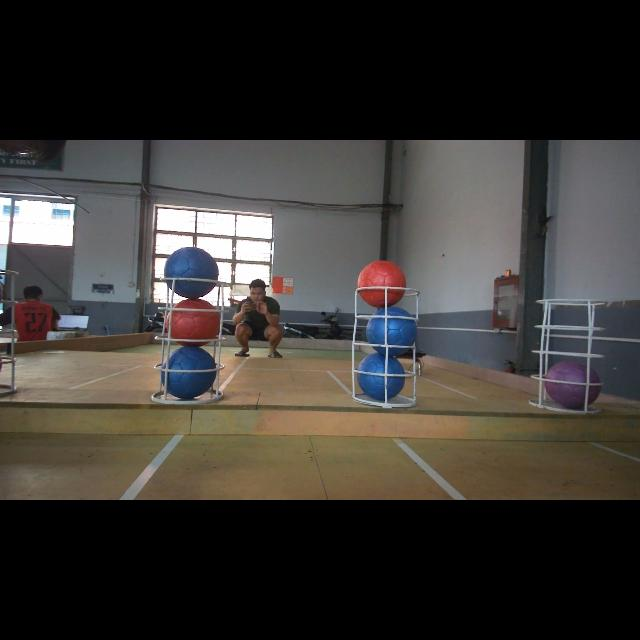B: (162, 346, 216, 399), (164, 247, 218, 300), (367, 307, 418, 355), (358, 353, 406, 399)
R: (165, 299, 219, 347), (359, 260, 406, 304)
